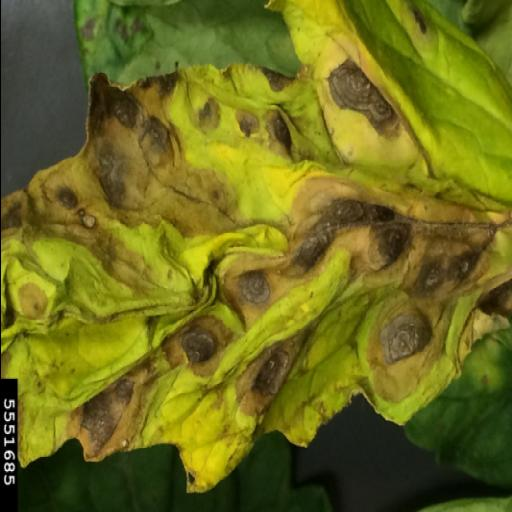disease_tomato: (0, 0, 512, 495)
